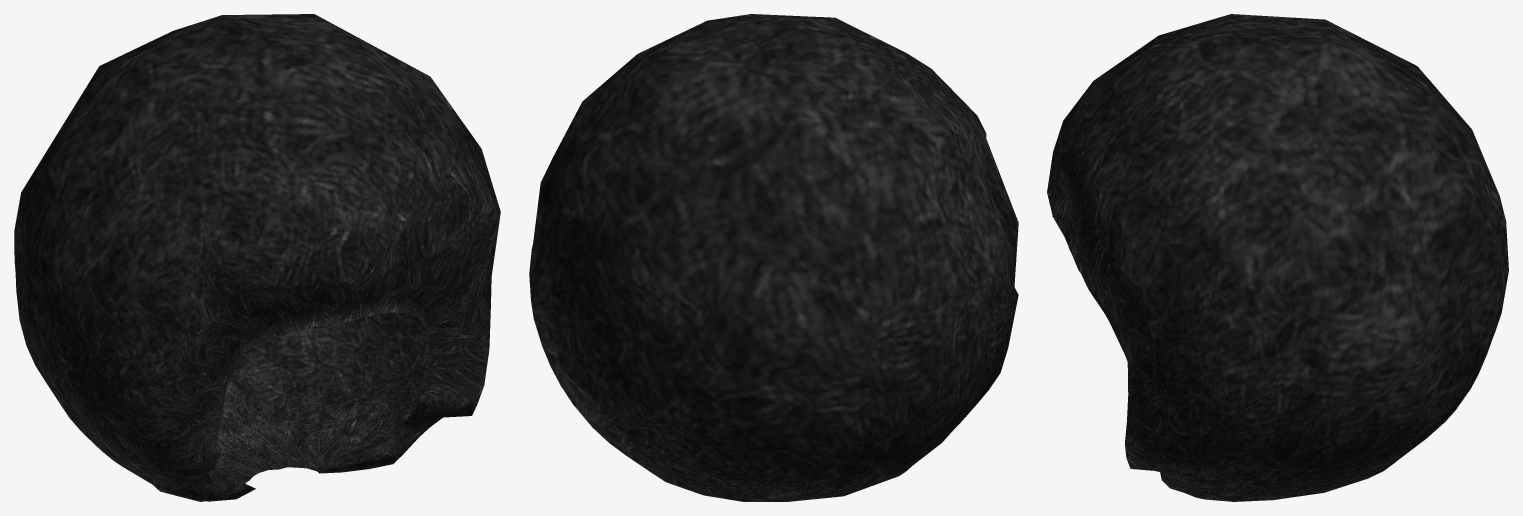
3 renders of one model, left to right at view 1: azimuth 30°, elevation 25°; view 2: azimuth 150°, elevation 25°; view 3: azimuth 270°, elevation 25°, orthographic.
Parts seen in each view (by area): view 1: H_Q3_F_Hr_0030; view 2: H_Q3_F_Hr_0030; view 3: H_Q3_F_Hr_0030.
Boxes of the visible parts, x1,y1,x2,y2 form: H_Q3_F_Hr_0030: [14, 14, 500, 501]; H_Q3_F_Hr_0030: [529, 14, 1018, 501]; H_Q3_F_Hr_0030: [1047, 14, 1508, 501].
Size of the model in its own units: 36.87 by 34.98 by 35.74.
